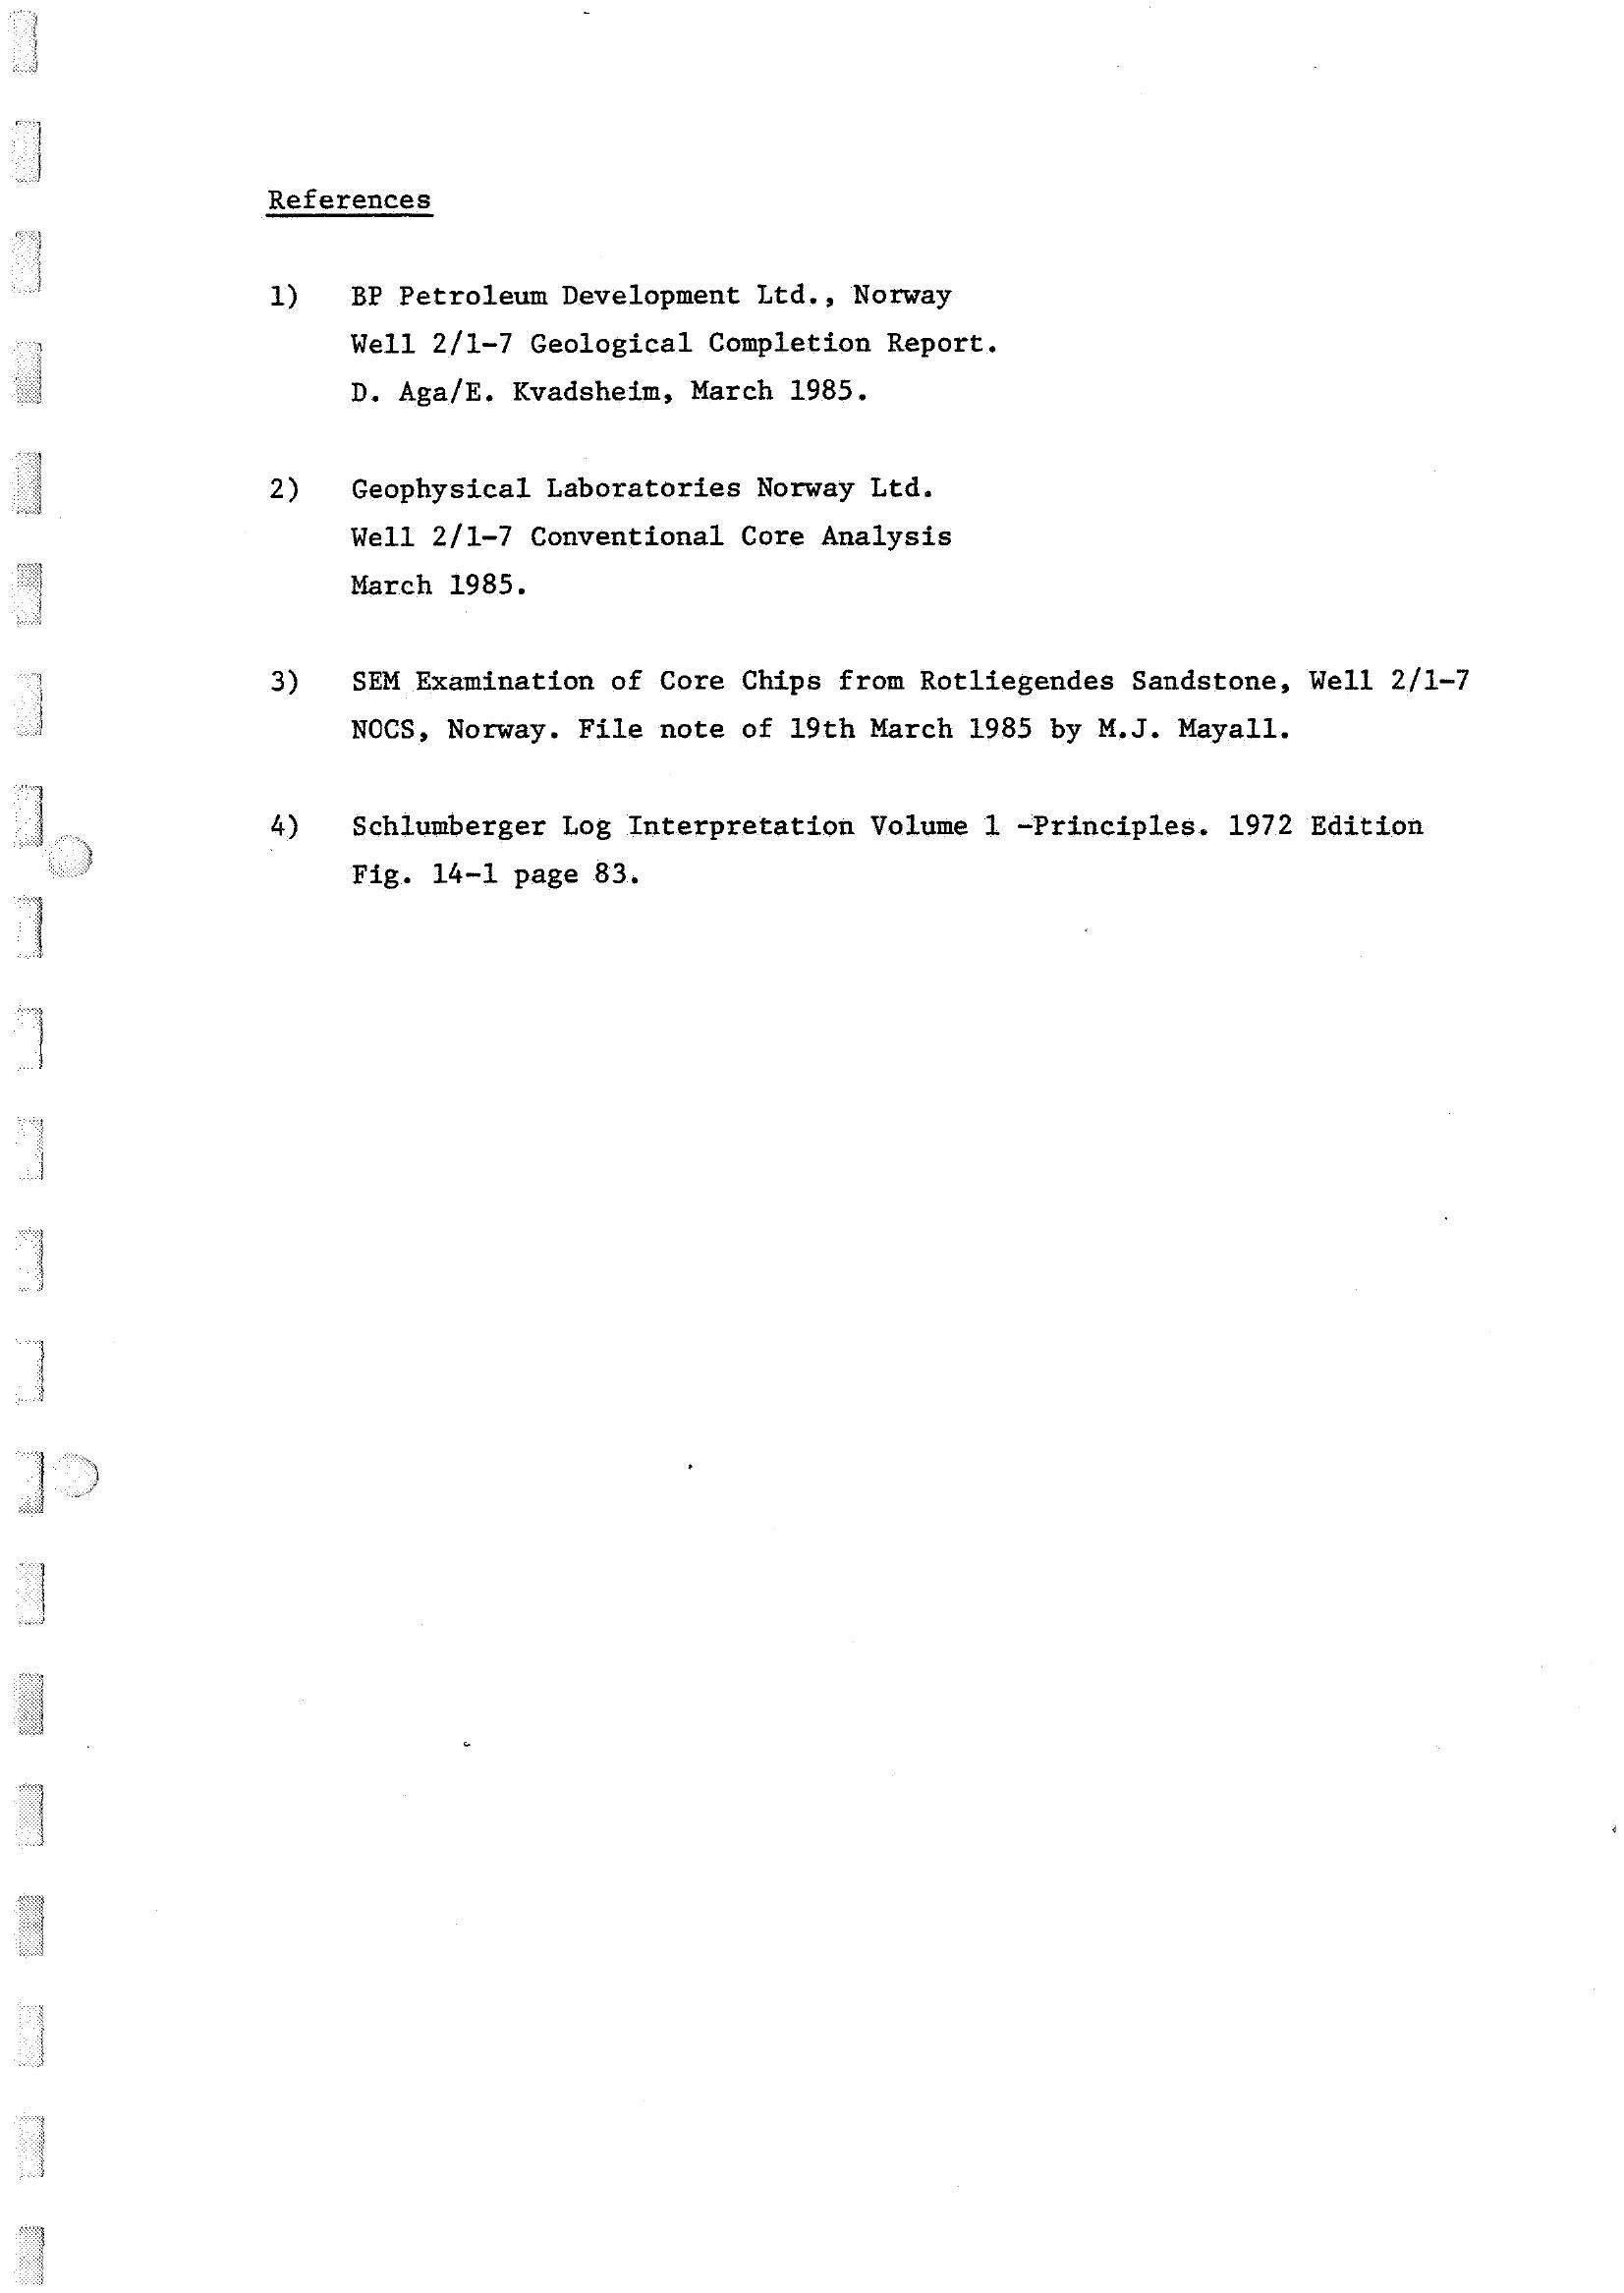text: (221, 167, 1503, 921)
